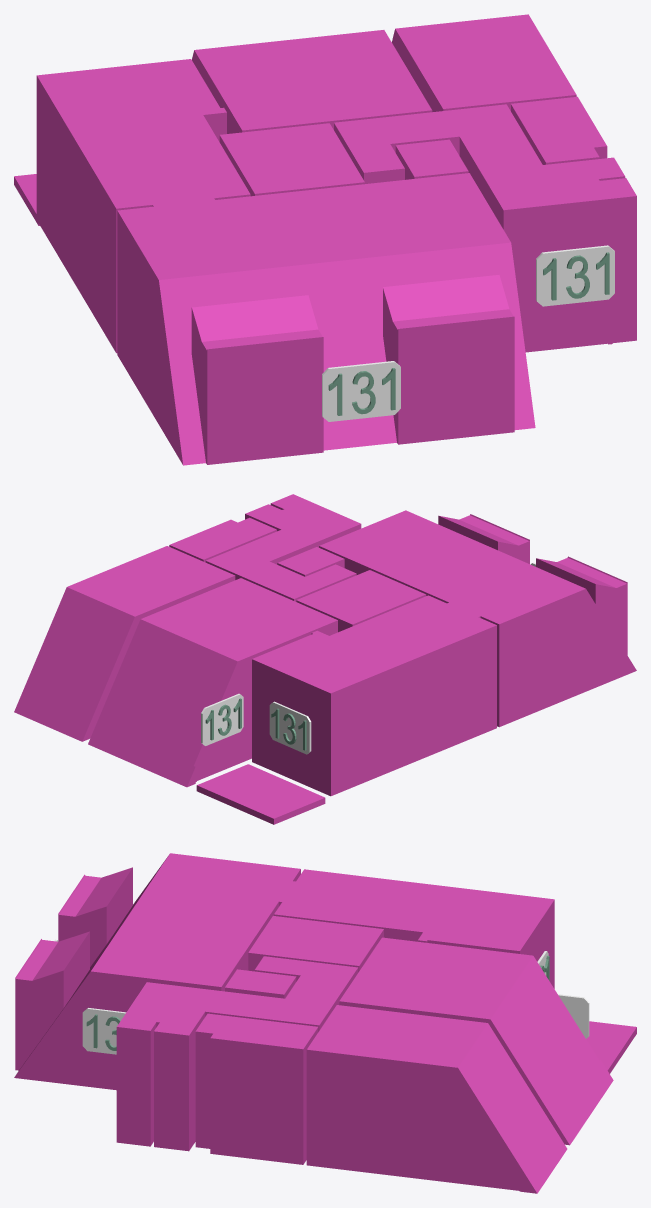
3 views of the same model, one above another, from view 1: azimuth 30°, elevation 25°; view 2: azimuth 150°, elevation 25°; view 3: azimuth 270°, elevation 25° (orthographic). The views are drawn at different scales.
Parts seen in each view (by area): view 1: g_6, g_5, g_4, g_1, g_2, g_3, g_0, g_24, g_16, g_7, g_8; view 2: g_5, g_6, g_1, g_2, g_4, g_8, g_3, g_0, g_28, g_12, g_7; view 3: g_2, g_6, g_1, g_4, g_0, g_5, g_3, g_8, g_7, g_20, g_12.
Part boxes in pixels (bbox=[...]): g_6: bbox=[117, 173, 535, 465]; g_5: bbox=[36, 59, 250, 353]; g_4: bbox=[334, 104, 636, 352]; g_1: bbox=[192, 30, 432, 133]; g_2: bbox=[392, 14, 576, 111]; g_3: bbox=[219, 123, 364, 196]; g_0: bbox=[511, 96, 607, 164]; g_24: bbox=[322, 361, 400, 421]; g_16: bbox=[536, 245, 614, 306]; g_7: bbox=[395, 139, 468, 179]; g_8: bbox=[14, 174, 39, 225]; g_5: bbox=[252, 595, 496, 796]; g_6: bbox=[319, 510, 636, 727]; g_1: bbox=[88, 578, 337, 787]; g_2: bbox=[14, 546, 235, 741]; g_4: bbox=[205, 494, 361, 601]; g_8: bbox=[196, 764, 325, 824]; g_3: bbox=[296, 570, 426, 632]; g_0: bbox=[169, 517, 276, 562]; g_28: bbox=[269, 701, 311, 754]; g_12: bbox=[201, 693, 243, 745]; g_7: bbox=[277, 547, 344, 576]; g_2: bbox=[306, 1005, 567, 1193]; g_6: bbox=[14, 853, 300, 1090]; g_1: bbox=[339, 937, 613, 1145]; g_4: bbox=[116, 956, 358, 1151]; g_0: bbox=[195, 1013, 318, 1164]; g_5: bbox=[274, 869, 554, 988]; g_3: bbox=[248, 916, 383, 972]; g_8: bbox=[586, 1021, 636, 1073]; g_7: bbox=[225, 969, 296, 998]; g_20: bbox=[82, 1008, 126, 1054]; g_12: bbox=[558, 994, 589, 1038].
Size of the model in its own units: 11.01 by 2.71 by 12.42.
